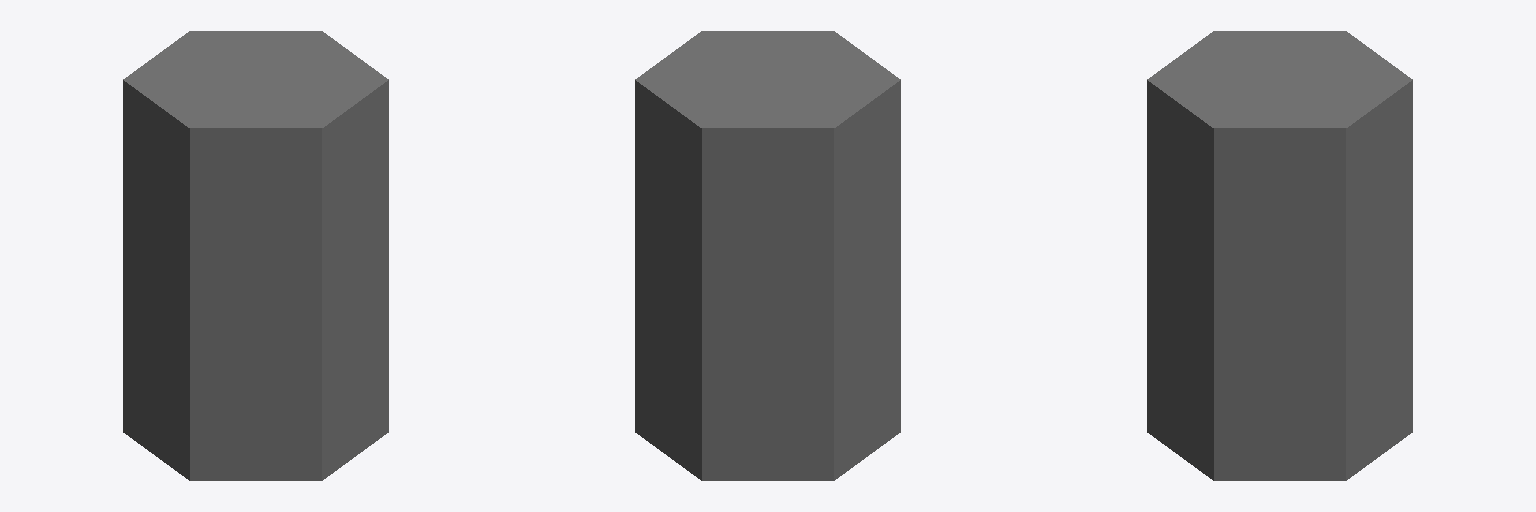
Rendered from pedestal.obj.
3 views of the same model, side by side, from view 1: azimuth 30°, elevation 25°; view 2: azimuth 150°, elevation 25°; view 3: azimuth 270°, elevation 25° (orthographic).
Visible parts, largest first — view 1: pCylinder26; view 2: pCylinder26; view 3: pCylinder26.
Part boxes in pixels (bbox=[...]): pCylinder26: bbox=[123, 31, 388, 480]; pCylinder26: bbox=[635, 31, 900, 480]; pCylinder26: bbox=[1147, 31, 1412, 480].
Bounding box in the file's own units: 1.27 × 2.14 × 1.46.